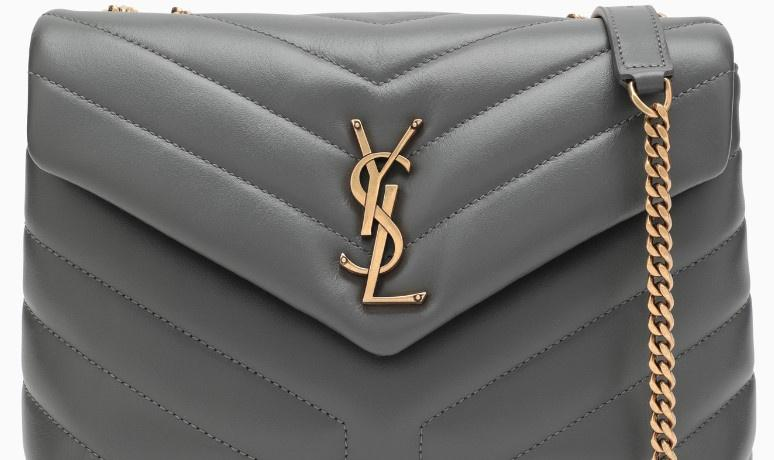YVES-SAINT-LAURENT: (338, 118, 427, 306)
